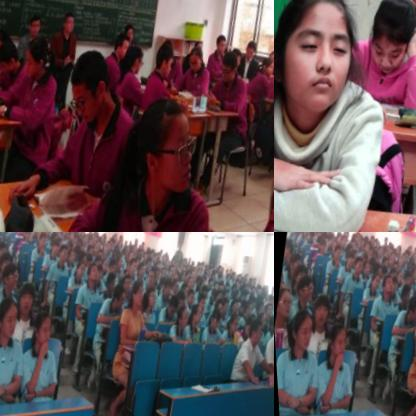head: (274, 0, 366, 125), (118, 93, 203, 201), (356, 0, 416, 86), (59, 44, 116, 131), (16, 33, 53, 81), (283, 308, 315, 353), (148, 45, 174, 83), (26, 312, 52, 349), (321, 324, 347, 361), (117, 46, 144, 79), (0, 37, 21, 79), (0, 295, 19, 341), (11, 283, 35, 318), (306, 295, 330, 330), (152, 38, 175, 71), (214, 53, 235, 88), (293, 273, 314, 304), (108, 34, 129, 64), (182, 49, 203, 79), (125, 283, 145, 313), (0, 261, 18, 292), (243, 325, 262, 353), (222, 49, 241, 76), (107, 287, 125, 314), (274, 287, 290, 317), (255, 60, 273, 86), (184, 305, 201, 332), (283, 252, 300, 278), (401, 298, 416, 326), (23, 14, 40, 38), (138, 289, 155, 313), (291, 263, 308, 287), (162, 300, 177, 326), (210, 36, 226, 60), (172, 309, 188, 332), (58, 13, 74, 35), (188, 41, 203, 64), (239, 44, 254, 67), (204, 313, 219, 336), (223, 318, 237, 340), (117, 24, 132, 44), (0, 250, 12, 275), (261, 52, 274, 75), (71, 262, 85, 283), (366, 274, 380, 295), (54, 247, 68, 266), (101, 278, 115, 297), (349, 259, 363, 278), (396, 290, 410, 309), (83, 265, 96, 284), (378, 277, 391, 296), (34, 232, 47, 250), (141, 271, 154, 289), (329, 244, 342, 262), (211, 303, 223, 322), (158, 282, 171, 299), (263, 319, 274, 339), (260, 308, 272, 326), (175, 286, 187, 304), (182, 292, 193, 311), (240, 322, 251, 341), (75, 251, 87, 268), (370, 263, 382, 280), (47, 240, 58, 258), (133, 265, 144, 283), (342, 252, 353, 270), (227, 304, 239, 320), (172, 293, 183, 310), (240, 306, 251, 323), (164, 267, 175, 284), (118, 276, 128, 294), (254, 317, 264, 335), (315, 241, 326, 257), (217, 302, 227, 319), (125, 262, 137, 276), (267, 319, 274, 343), (252, 307, 263, 322), (182, 279, 193, 294), (180, 272, 191, 287), (64, 250, 74, 266), (193, 298, 203, 314), (70, 246, 80, 262), (359, 262, 369, 278), (365, 258, 375, 274), (105, 262, 116, 276), (210, 294, 221, 308), (400, 274, 411, 288), (235, 305, 245, 320), (19, 232, 31, 244), (84, 246, 94, 260), (197, 288, 207, 302), (324, 232, 334, 246), (379, 258, 389, 272), (98, 260, 107, 274), (194, 283, 203, 297), (150, 271, 159, 285), (393, 272, 402, 286), (102, 242, 111, 255), (237, 293, 246, 306), (265, 300, 274, 313), (141, 261, 150, 274), (333, 232, 342, 245), (397, 254, 406, 267), (245, 302, 253, 316), (168, 282, 176, 296), (303, 232, 314, 242), (219, 294, 228, 306), (361, 242, 370, 254), (0, 240, 4, 266), (177, 273, 185, 286), (157, 271, 165, 284), (312, 232, 323, 241), (90, 242, 98, 254), (385, 254, 393, 266), (204, 281, 211, 294), (133, 257, 140, 270), (352, 232, 359, 245), (230, 294, 238, 305), (338, 237, 345, 249), (66, 232, 74, 242), (209, 285, 217, 295), (193, 272, 201, 282), (146, 252, 154, 262), (132, 250, 140, 260), (381, 238, 389, 248), (367, 237, 375, 247), (215, 285, 222, 296), (221, 285, 228, 296), (162, 260, 169, 271), (75, 239, 82, 250), (370, 251, 377, 262), (412, 287, 416, 306), (99, 246, 106, 256), (98, 236, 105, 246), (131, 240, 138, 250), (259, 289, 266, 299), (357, 240, 364, 250), (394, 258, 401, 268), (393, 248, 400, 258), (254, 289, 260, 300), (247, 291, 254, 300), (175, 266, 182, 275), (153, 263, 160, 272), (140, 255, 147, 264), (125, 254, 132, 263), (341, 232, 348, 241), (81, 236, 87, 246), (215, 278, 221, 288), (158, 258, 164, 268), (376, 248, 382, 258), (374, 241, 380, 251), (223, 279, 230, 287), (106, 241, 112, 250), (207, 277, 213, 286), (130, 247, 136, 256), (401, 253, 407, 262), (150, 257, 156, 265), (268, 292, 273, 301), (229, 276, 234, 285), (215, 270, 220, 279), (198, 265, 203, 274), (175, 245, 180, 254), (168, 261, 173, 270), (153, 254, 159, 261), (42, 232, 50, 237), (61, 232, 69, 237), (222, 274, 227, 282), (247, 284, 252, 292), (181, 262, 186, 270), (172, 266, 177, 274), (202, 273, 207, 281), (188, 265, 193, 272), (138, 244, 143, 251), (157, 252, 161, 260), (79, 232, 84, 238), (226, 273, 230, 280), (242, 278, 246, 285), (194, 263, 198, 270), (185, 261, 189, 268), (209, 269, 213, 276), (85, 232, 94, 235), (271, 292, 274, 300), (72, 232, 79, 235)
